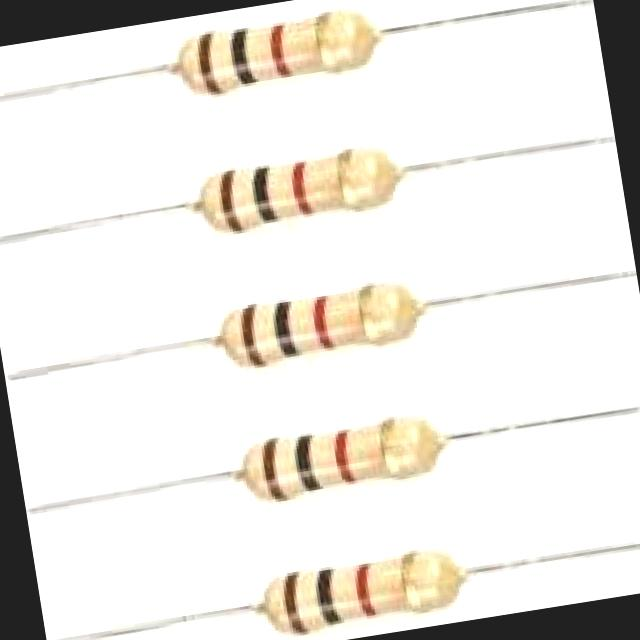Resistor: (207, 280, 440, 368), (234, 414, 450, 505), (255, 547, 468, 635), (169, 9, 380, 97), (194, 146, 402, 232)
black: (271, 299, 305, 364), (253, 162, 284, 233), (235, 23, 262, 91), (316, 567, 344, 624), (297, 433, 324, 492)
brown: (198, 33, 227, 96), (262, 436, 289, 503), (219, 169, 244, 235), (285, 570, 310, 636), (242, 305, 267, 366)
gold: (331, 145, 369, 220), (356, 275, 389, 358), (316, 9, 345, 84), (381, 411, 407, 491), (402, 551, 430, 622)
red: (310, 290, 340, 359), (359, 562, 388, 629), (333, 425, 361, 493), (271, 20, 297, 92), (294, 153, 319, 227)
